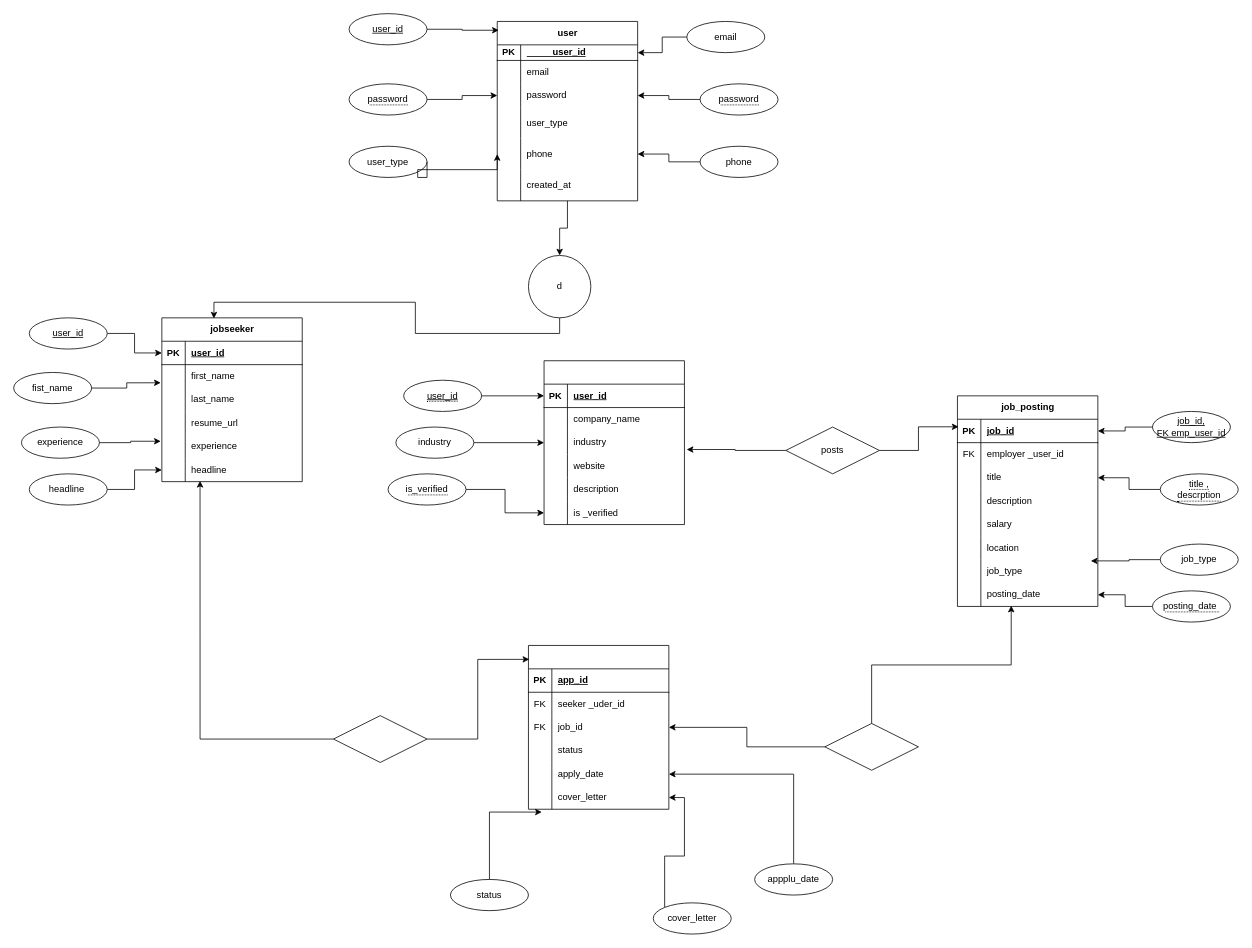
The diagram is 1252 pixels wide and 948 high, and some of its shapes have lost their labels. The box of each missing label's shape, as (x1, y1, x2, y2) in pixels:
application: (528, 645, 669, 809)
employer: (543, 360, 684, 525)
receives: (824, 723, 918, 770)
submits: (333, 715, 427, 762)
